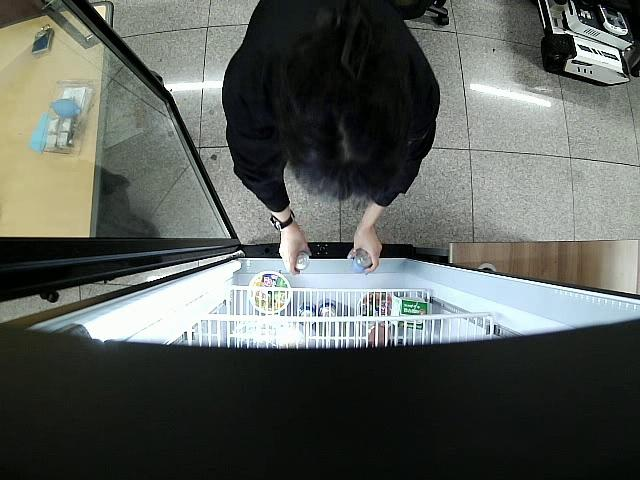00_hand: (347, 230, 383, 274), (278, 234, 311, 274)
15_letsbe: (351, 248, 372, 271), (292, 251, 311, 272)
